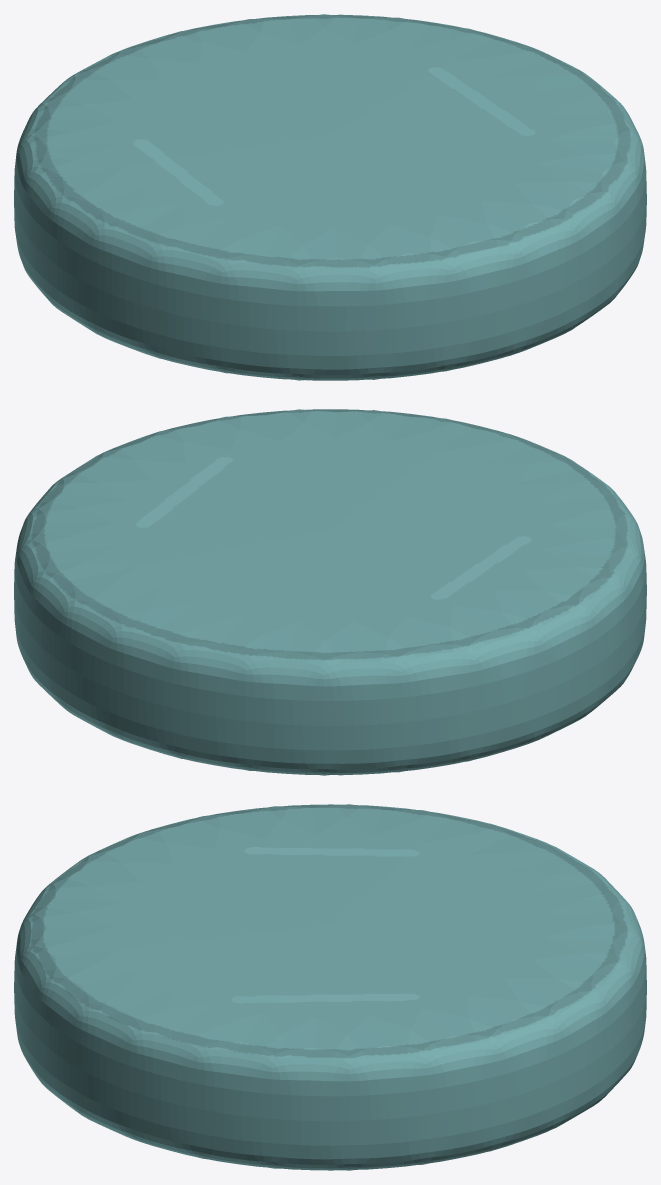
File: geo_arena_01.fbx
The picture shows the model from 3 angles, top to bottom: view 1: azimuth 30°, elevation 25°; view 2: azimuth 150°, elevation 25°; view 3: azimuth 270°, elevation 25°; orthographic projection.
Parts seen in each view (by area): view 1: geo_arena_00; view 2: geo_arena_00; view 3: geo_arena_00.
Boxes of the visible parts, <box> form: geo_arena_00: <box>14,14,646,380</box>; geo_arena_00: <box>14,409,646,775</box>; geo_arena_00: <box>14,804,646,1170</box>.
Size of the model in its own units: 198 by 43.3 by 198.
